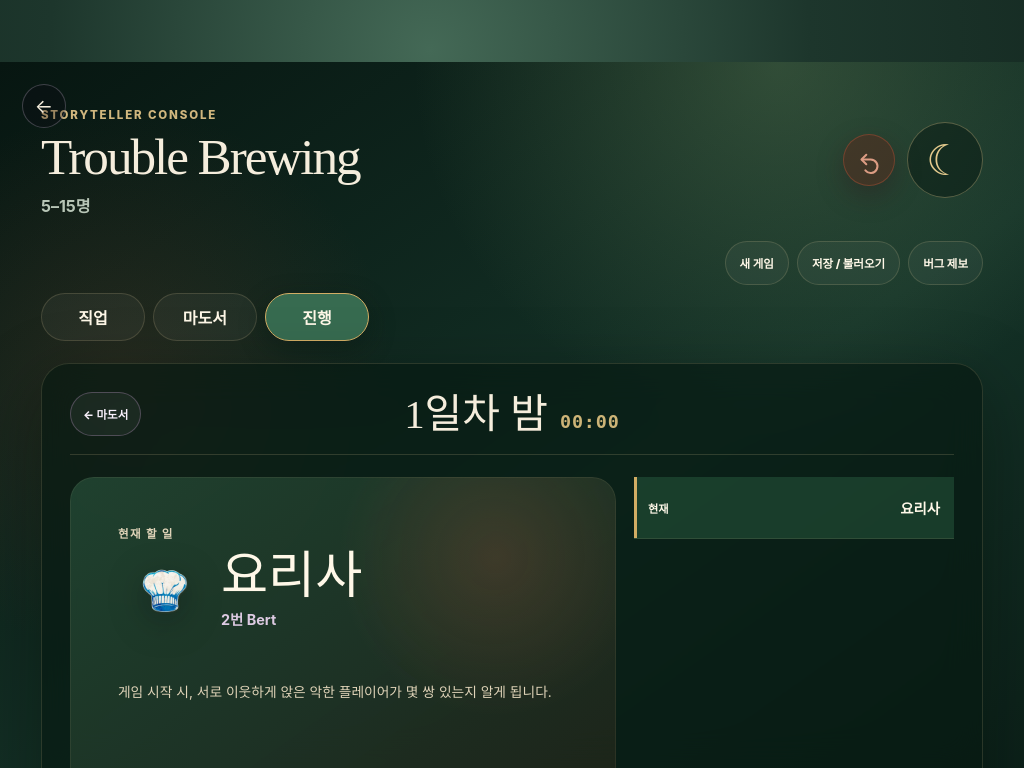
Test: ClocktowerApp live-play integration › shows the latest event Undo beside the collapsed log and cancellation changes nothing
expect the heading named "요리사: 2번 Bert" is shown: met, box x1=221 y1=550 x2=362 y2=602
Step 1. Click the button named "Undo" → coordinates (869, 160), box x1=843 y1=134 x2=895 y2=186
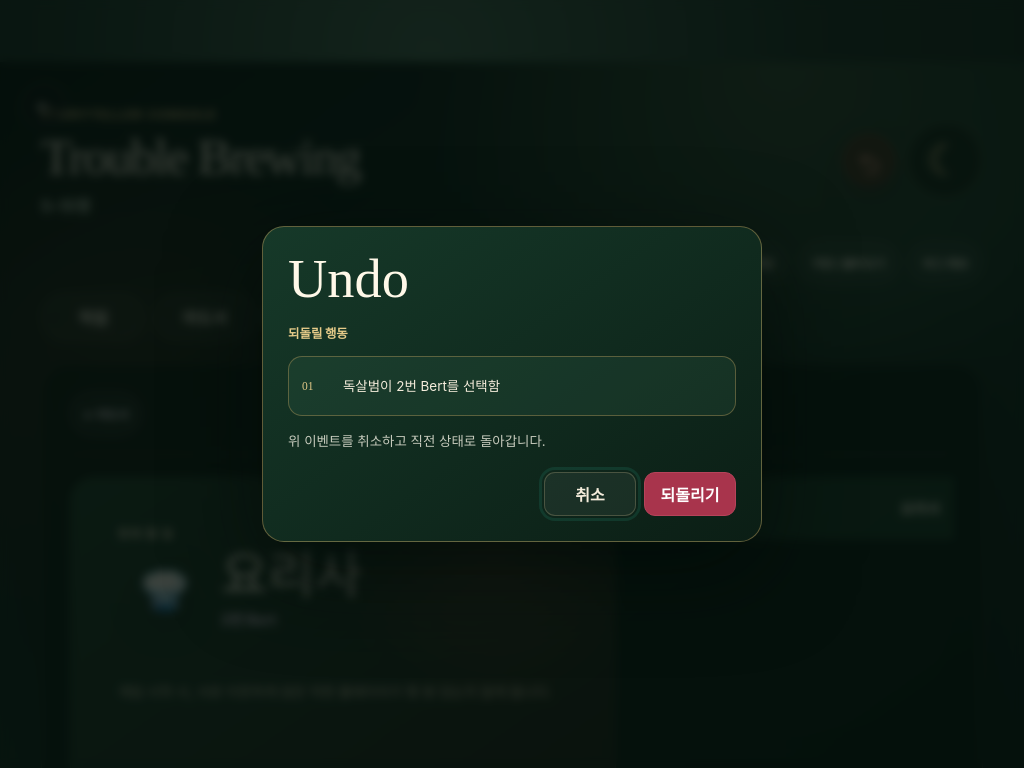
expect the text "독살범이 2번 Bert를 선택함" is shown: met, box x1=343 y1=378 x2=500 y2=394
Step 2. Click the button "취소" → coordinates (590, 494), box x1=544 y1=472 x2=636 y2=516
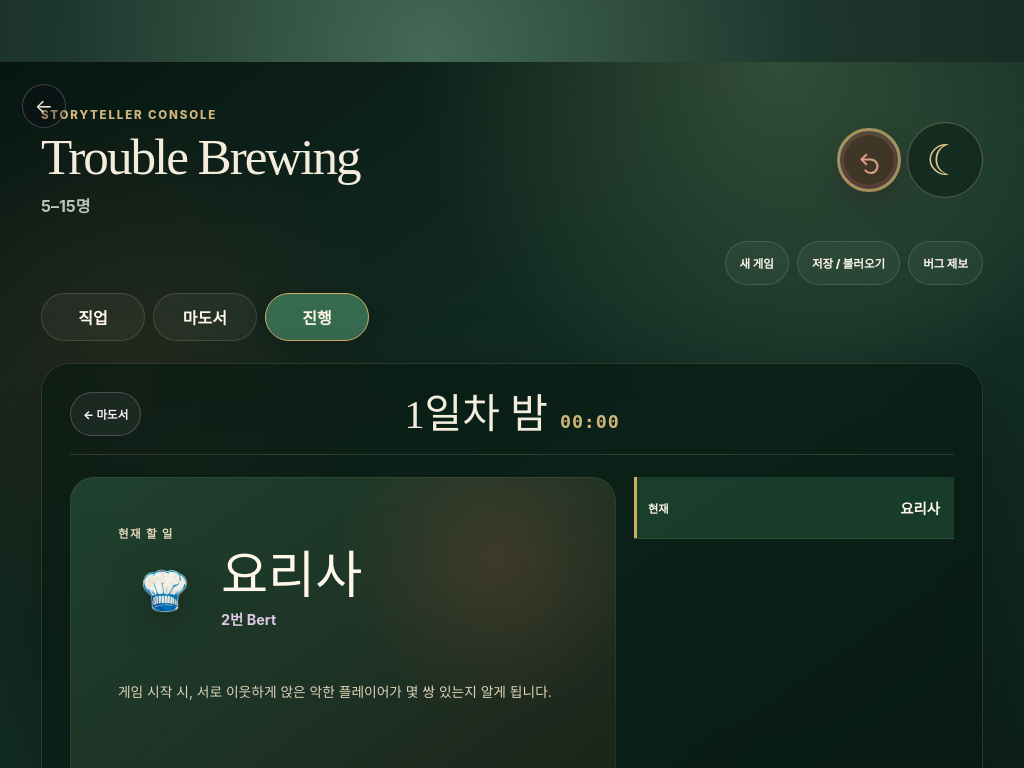
expect the heading "Undo" is gone: met
Step 3. Click the button "저장 / 불러오기" → coordinates (848, 263), box x1=797 y1=241 x2=900 y2=285
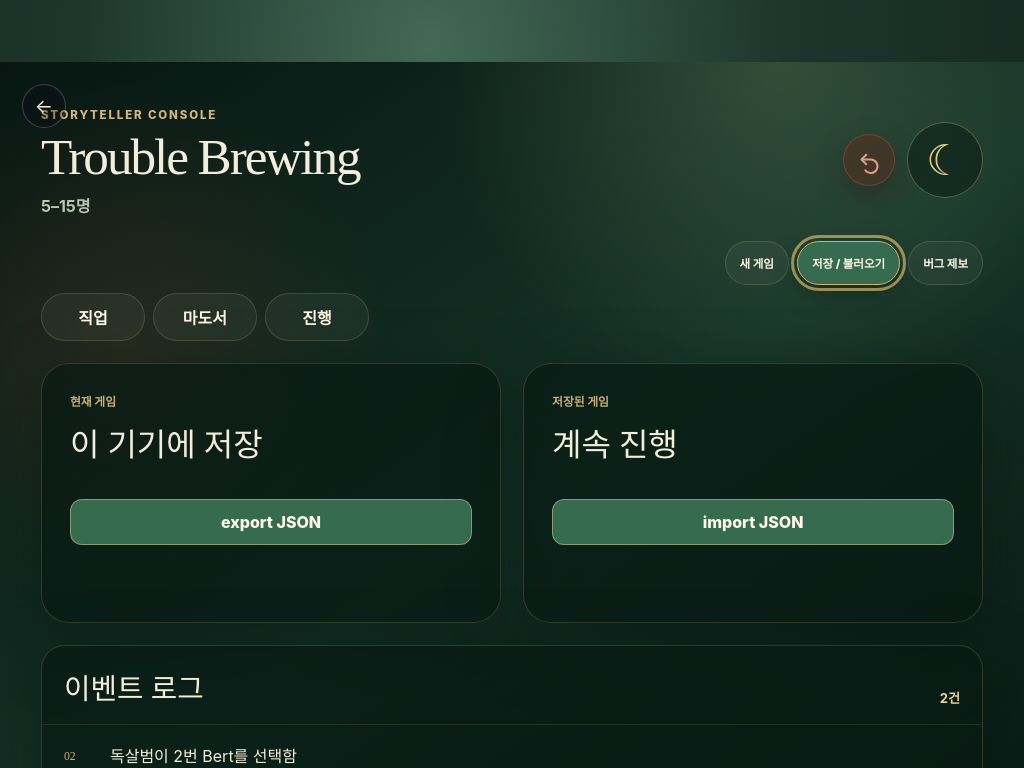
expect the text "독살범이 2번 Bert를 선택함" is shown: met, box x1=110 y1=746 x2=297 y2=766
